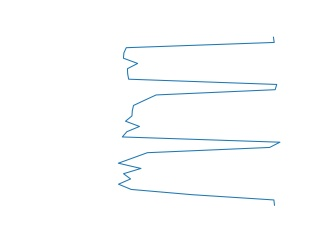majorRiverChannelBar: (114, 37, 283, 206)
